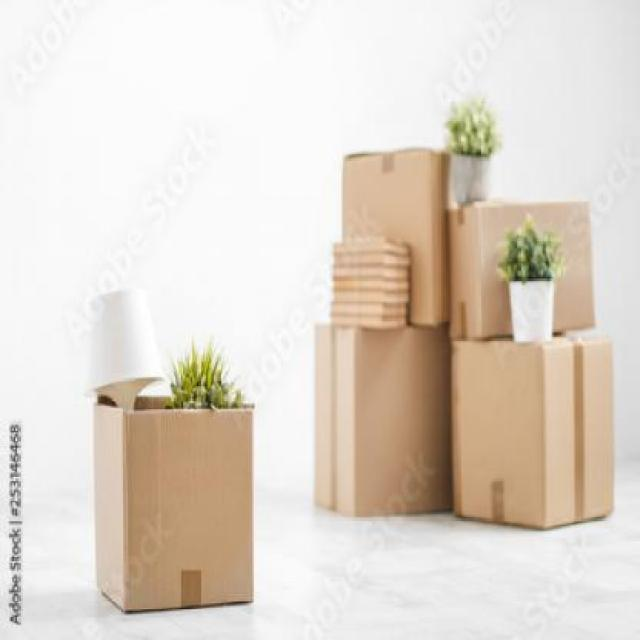box: (92, 391, 252, 608), (456, 335, 610, 530), (314, 321, 452, 522), (445, 186, 590, 348), (342, 149, 454, 330)
